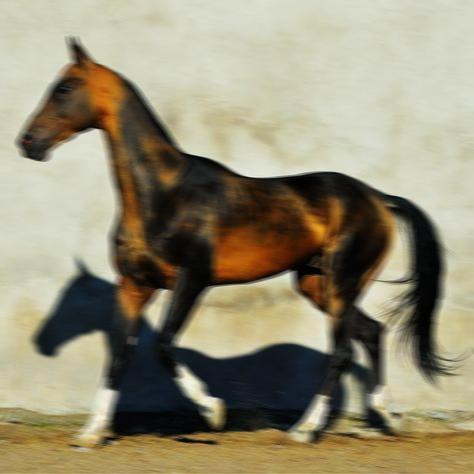horse: (16, 33, 473, 450)
